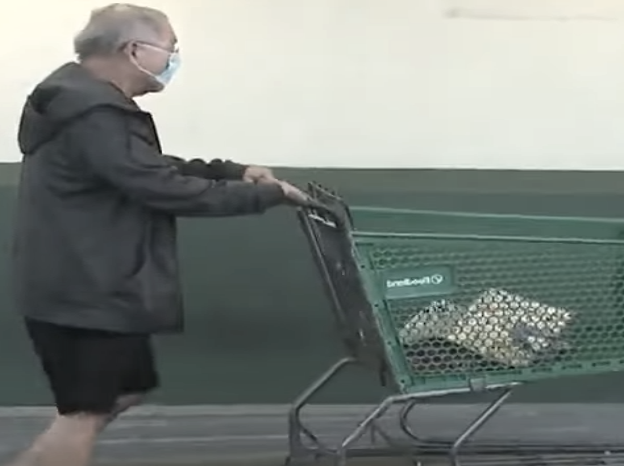mask_weared_incorrect: (114, 3, 186, 95)
